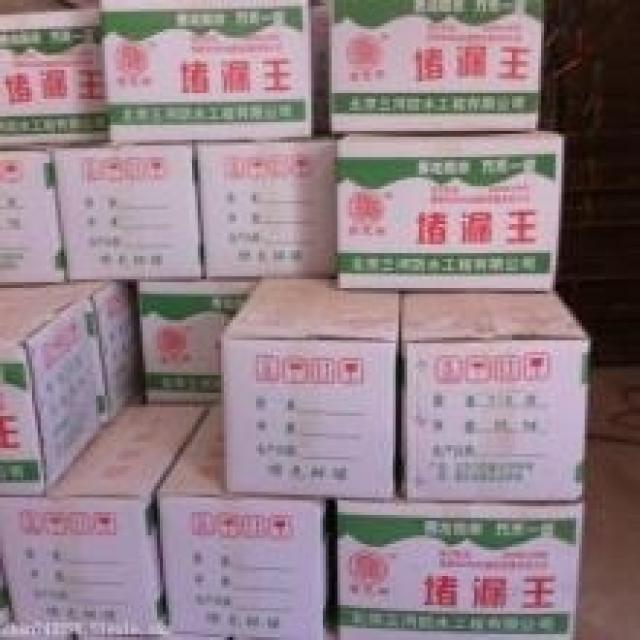box: (0, 397, 207, 632), (159, 406, 335, 637), (220, 276, 403, 497), (399, 292, 587, 501), (340, 130, 564, 294), (337, 499, 583, 637), (102, 0, 314, 143), (330, 1, 542, 134), (0, 287, 103, 497), (52, 141, 204, 281), (195, 139, 336, 276), (0, 5, 111, 148), (136, 280, 258, 405), (40, 283, 141, 424), (0, 149, 70, 285)
